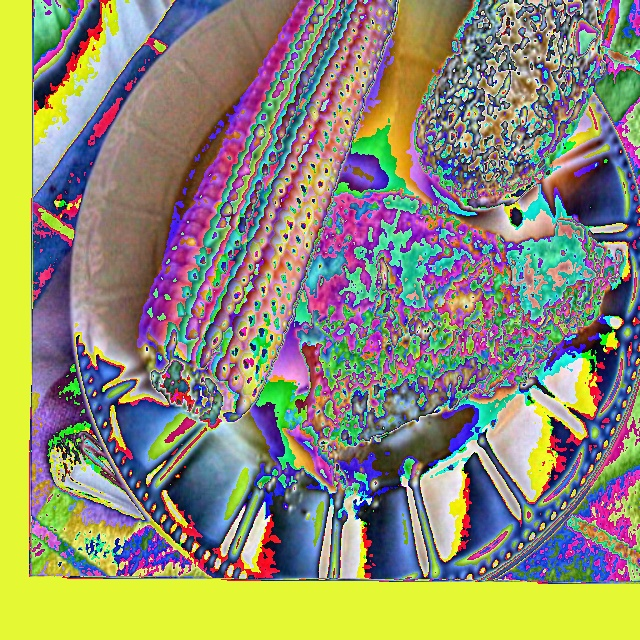background: (138, 0, 622, 495)
